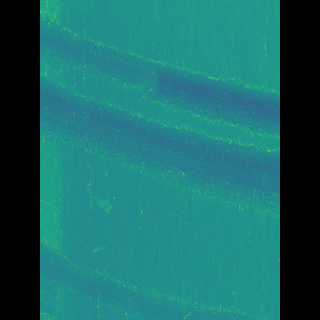Loch: (68, 74, 250, 219), (69, 11, 250, 142), (68, 244, 230, 319)
